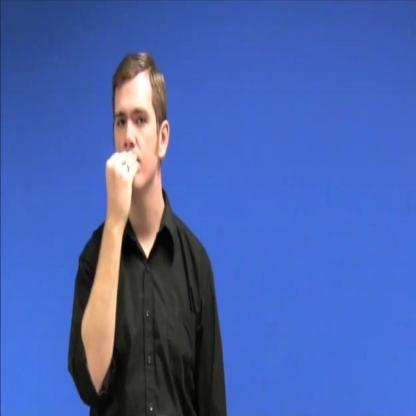Food: (100, 50, 173, 225)
